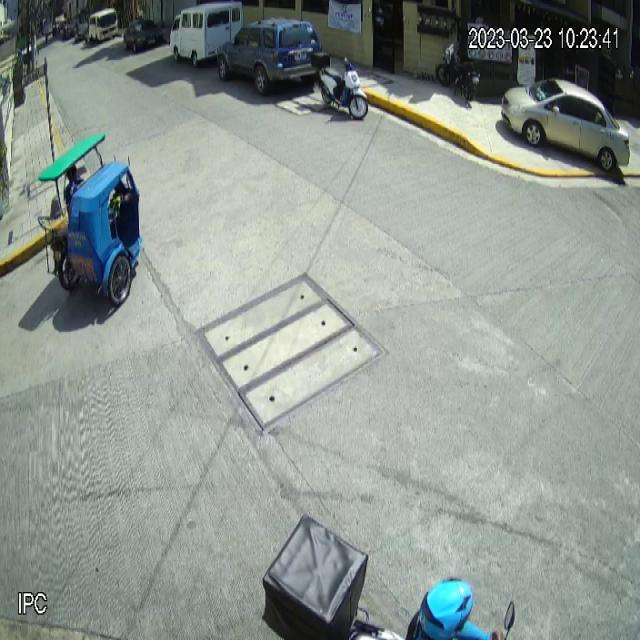Car: (501, 77, 632, 175), (216, 15, 322, 96)
Motorcycle: (308, 51, 369, 120)
Tricycle: (38, 132, 144, 307)
Van: (169, 0, 245, 68)
